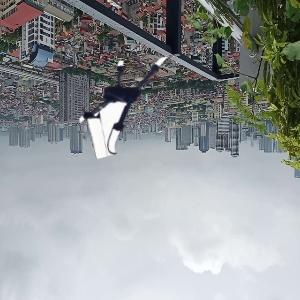drone: (75, 44, 182, 151)
